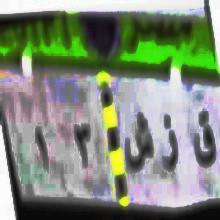1: (32, 116, 53, 178)
3: (74, 117, 94, 173)
qaaf: (192, 99, 216, 184)
sheen: (122, 114, 154, 178)
zay: (162, 107, 180, 185)
